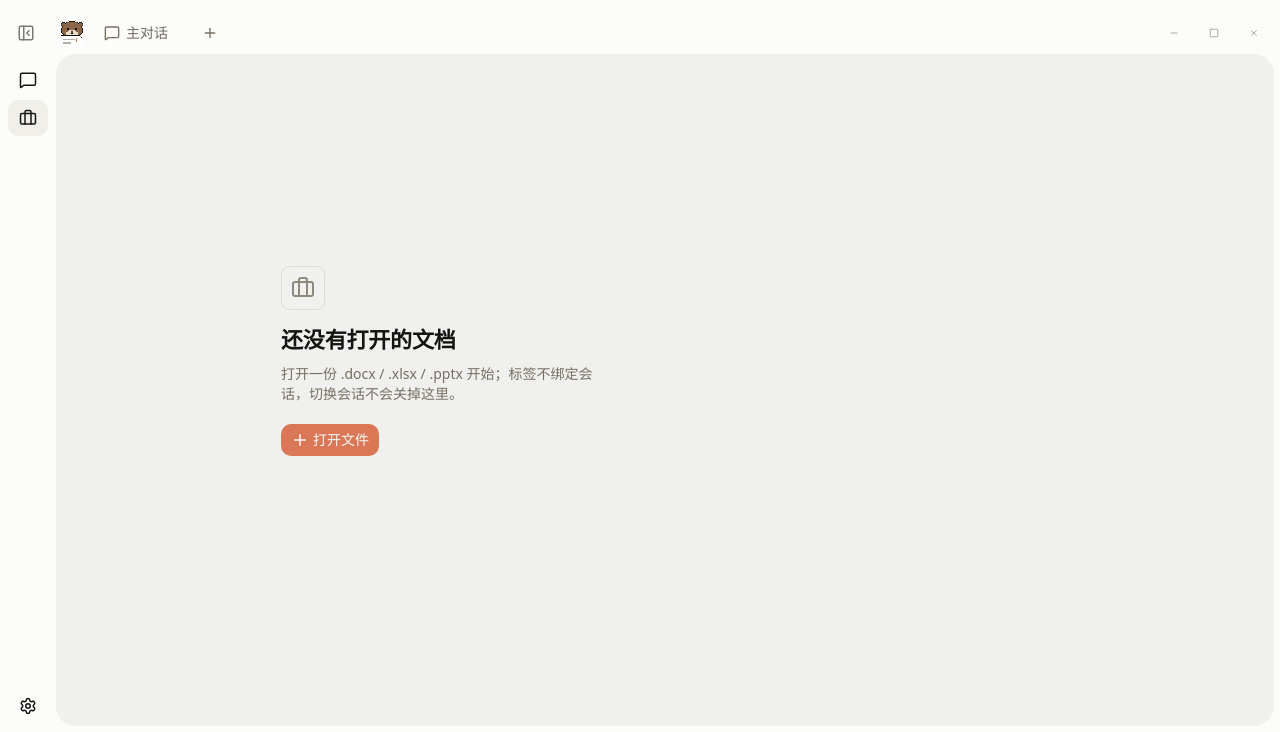
it: 路由：Office 模块保活（M3-S4） › 深链 /office：Office 页在、聊天不预挂、模块 active；切聊天后 Office 仍在 DOM（hidden+inert）
Click the button with test id "primary-nav-chat": point(28, 80) [8,62,48,98]
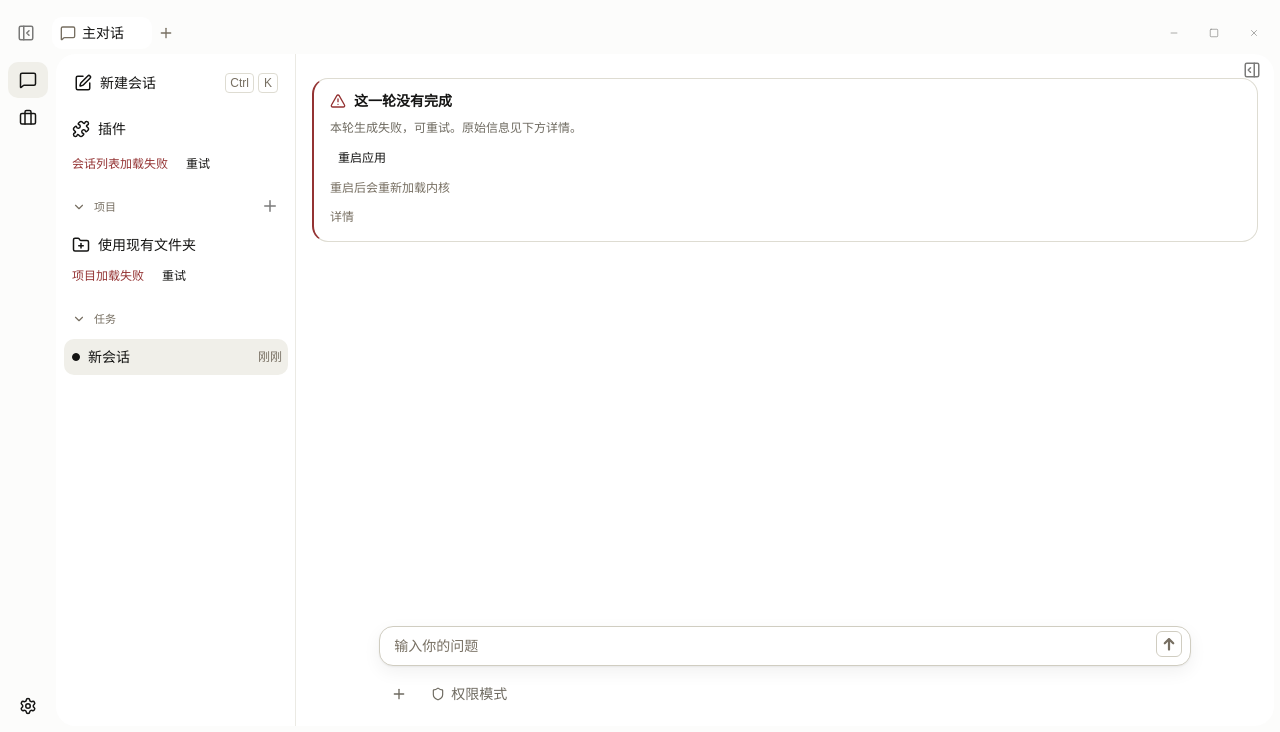
Check: the element with test id "chat-page" is shown
